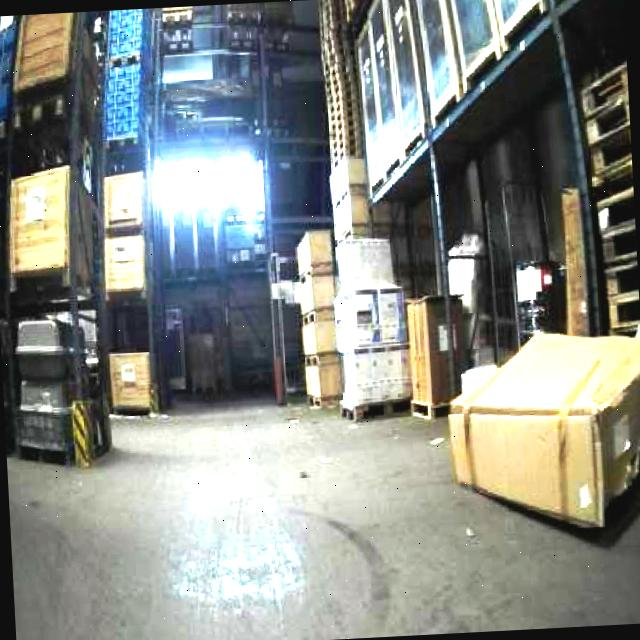ground: (5, 362, 640, 640)
pallet: (338, 0, 633, 197), (0, 11, 124, 470), (444, 325, 640, 536), (291, 151, 416, 424), (577, 39, 640, 444), (7, 312, 106, 468), (98, 167, 160, 416), (4, 162, 79, 290), (295, 227, 346, 407), (405, 291, 470, 420), (0, 159, 19, 457)
